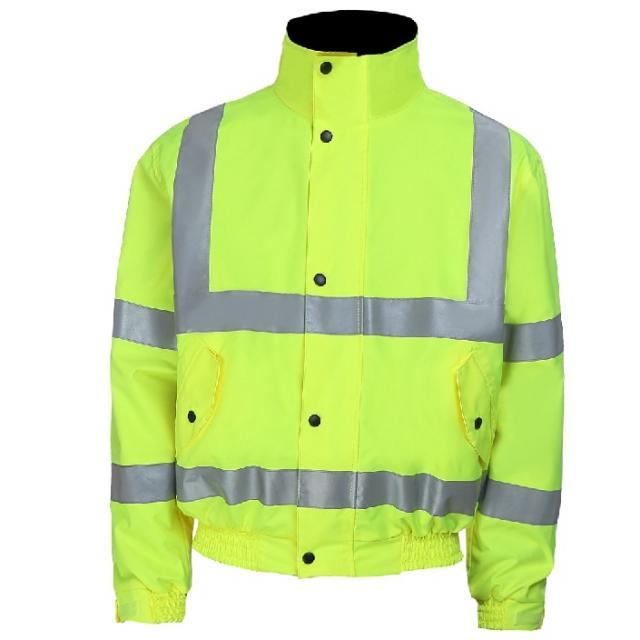Reflective-Jacket: (79, 24, 594, 631)
